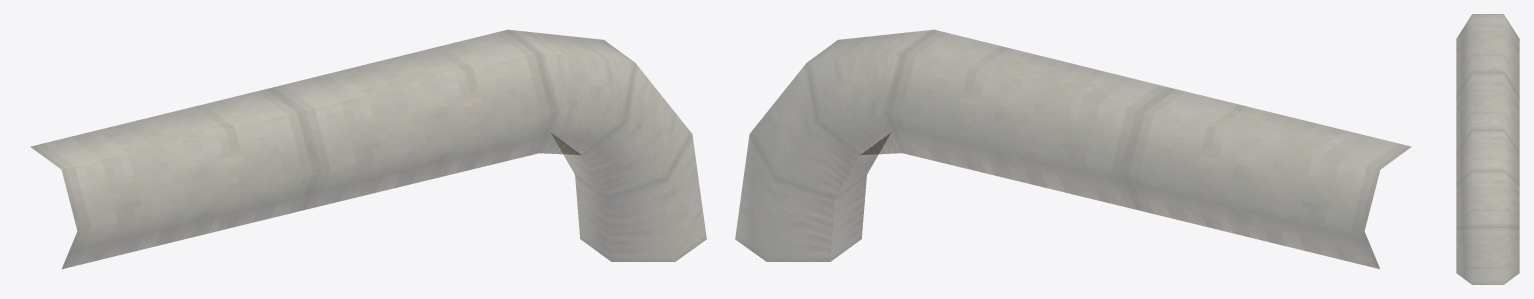
The picture shows the model from 3 angles, left to right: view 1: azimuth 30°, elevation 25°; view 2: azimuth 150°, elevation 25°; view 3: azimuth 270°, elevation 25°; orthographic projection. The views are drawn at different scales.
Visible parts, largest first — view 1: Joke_obj_069; view 2: Joke_obj_069; view 3: Joke_obj_069.
Part boxes in pixels (x1=…): Joke_obj_069: x1=30, y1=29, x2=706, y2=268; Joke_obj_069: x1=735, y1=29, x2=1411, y2=268; Joke_obj_069: x1=1456, y1=14, x2=1519, y2=284.
Size of the model in its own units: 2.7 by 0.9102 by 0.459.
1 material, 1 textured.
